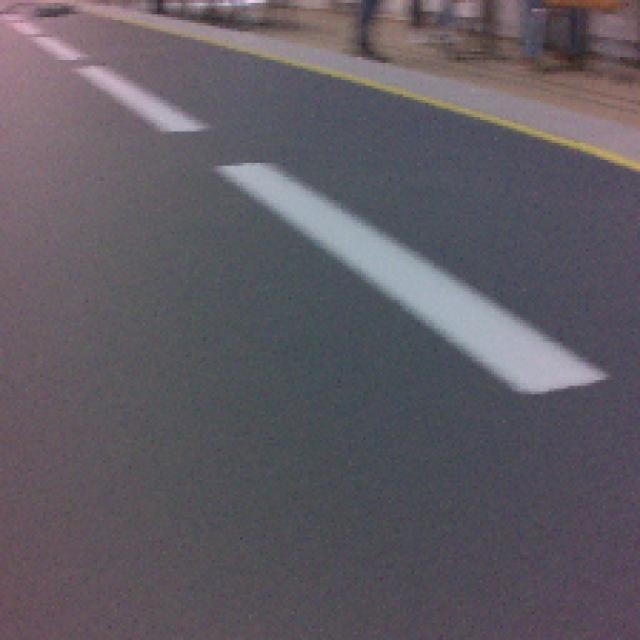Road: (2, 383, 635, 640)
